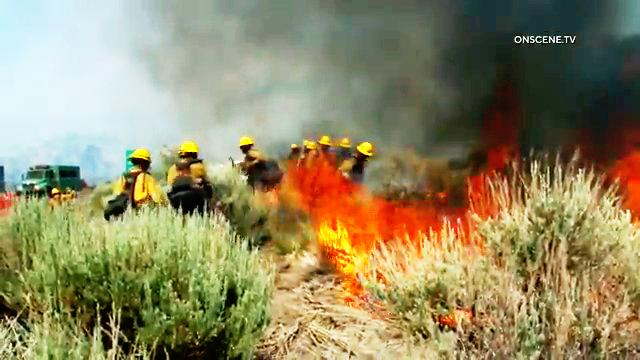fire: (309, 169, 500, 293)
smoke: (315, 6, 504, 124)
